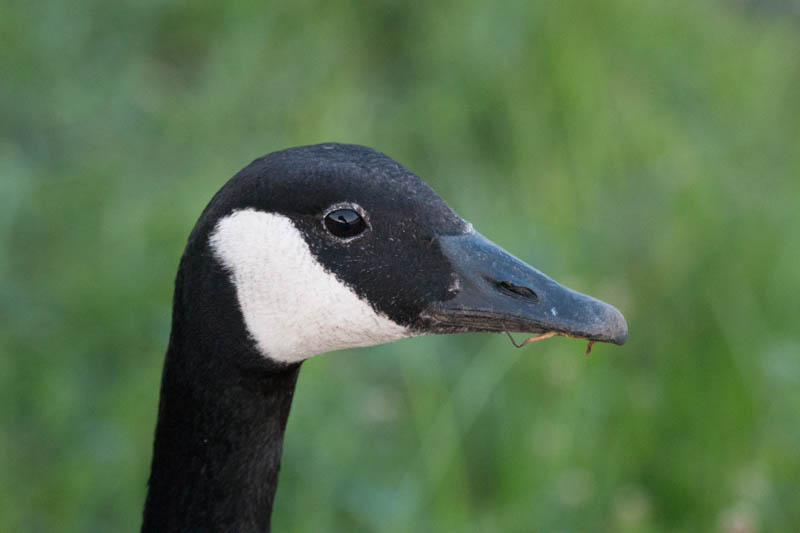goose-head: (172, 141, 628, 365)
